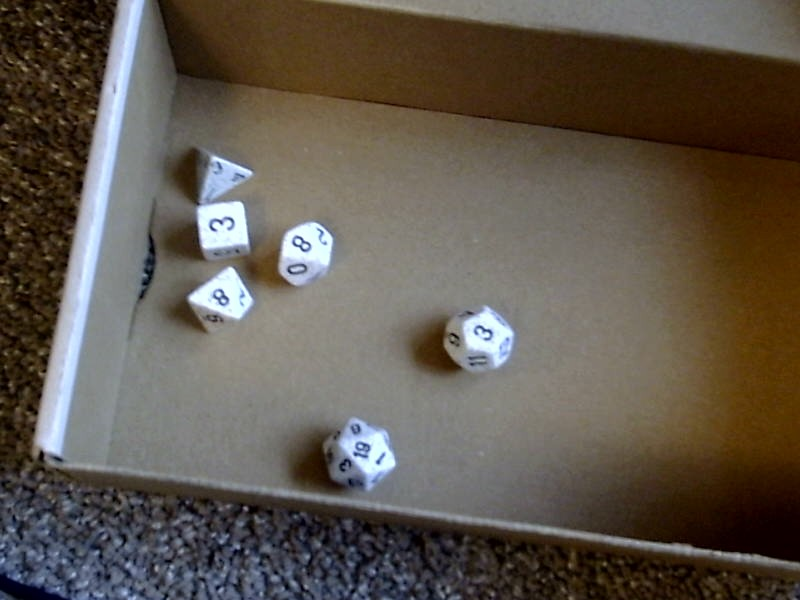d10 8: (273, 208, 337, 294)
d12 3: (434, 299, 522, 382)
d20 19: (315, 411, 401, 496)
d4 3: (184, 139, 255, 203)
d6 3: (185, 201, 258, 261)
d8 8: (183, 261, 256, 341)
